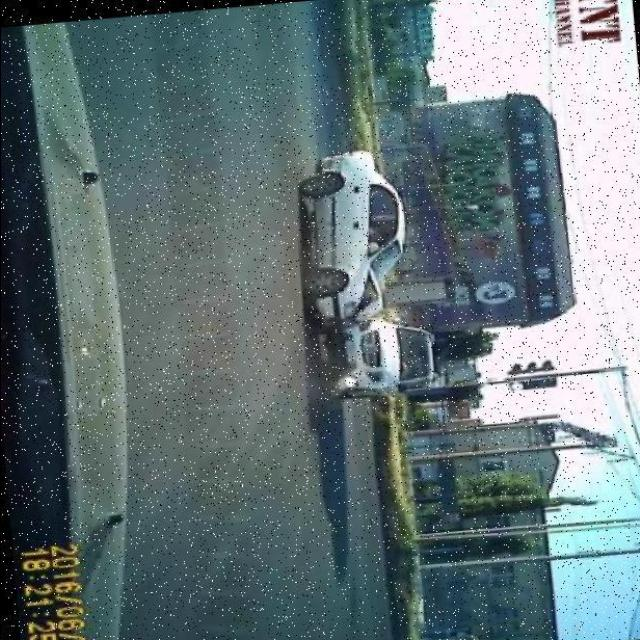accident: (292, 144, 440, 405)
